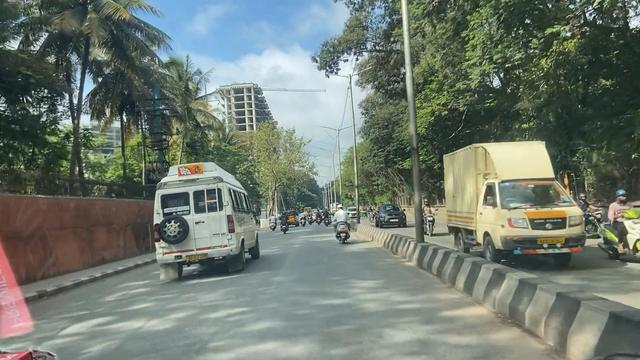HMV: (151, 157, 260, 279)
